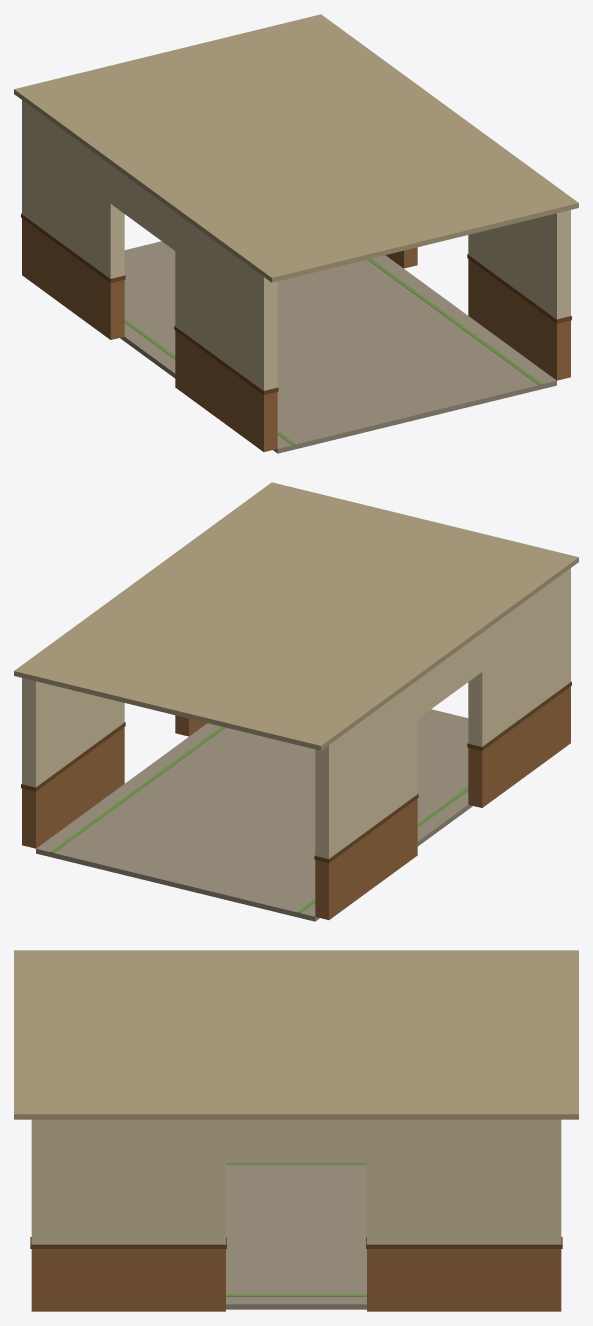
File: room_shared_main_straight.glb
3 views of the same model, one above another, from view 1: azimuth 30°, elevation 25°; view 2: azimuth 150°, elevation 25°; view 3: azimuth 270°, elevation 25° (orthographic). The views are drawn at different scales.
Parts seen in each view (by area): view 1: room_shared_main_straight; view 2: room_shared_main_straight; view 3: room_shared_main_straight.
Part boxes in pixels (x1,y1,x2,y2): room_shared_main_straight: [14, 14, 578, 453]; room_shared_main_straight: [14, 482, 578, 921]; room_shared_main_straight: [14, 950, 578, 1311].
Size of the model in its own units: 6.62 by 3.8 by 9.6.
Materials: 1 (1 with a texture image).
